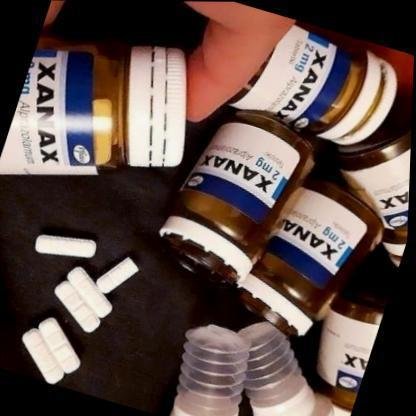jar: (155, 96, 324, 285), (228, 166, 393, 340), (0, 44, 186, 176), (232, 16, 406, 156)
